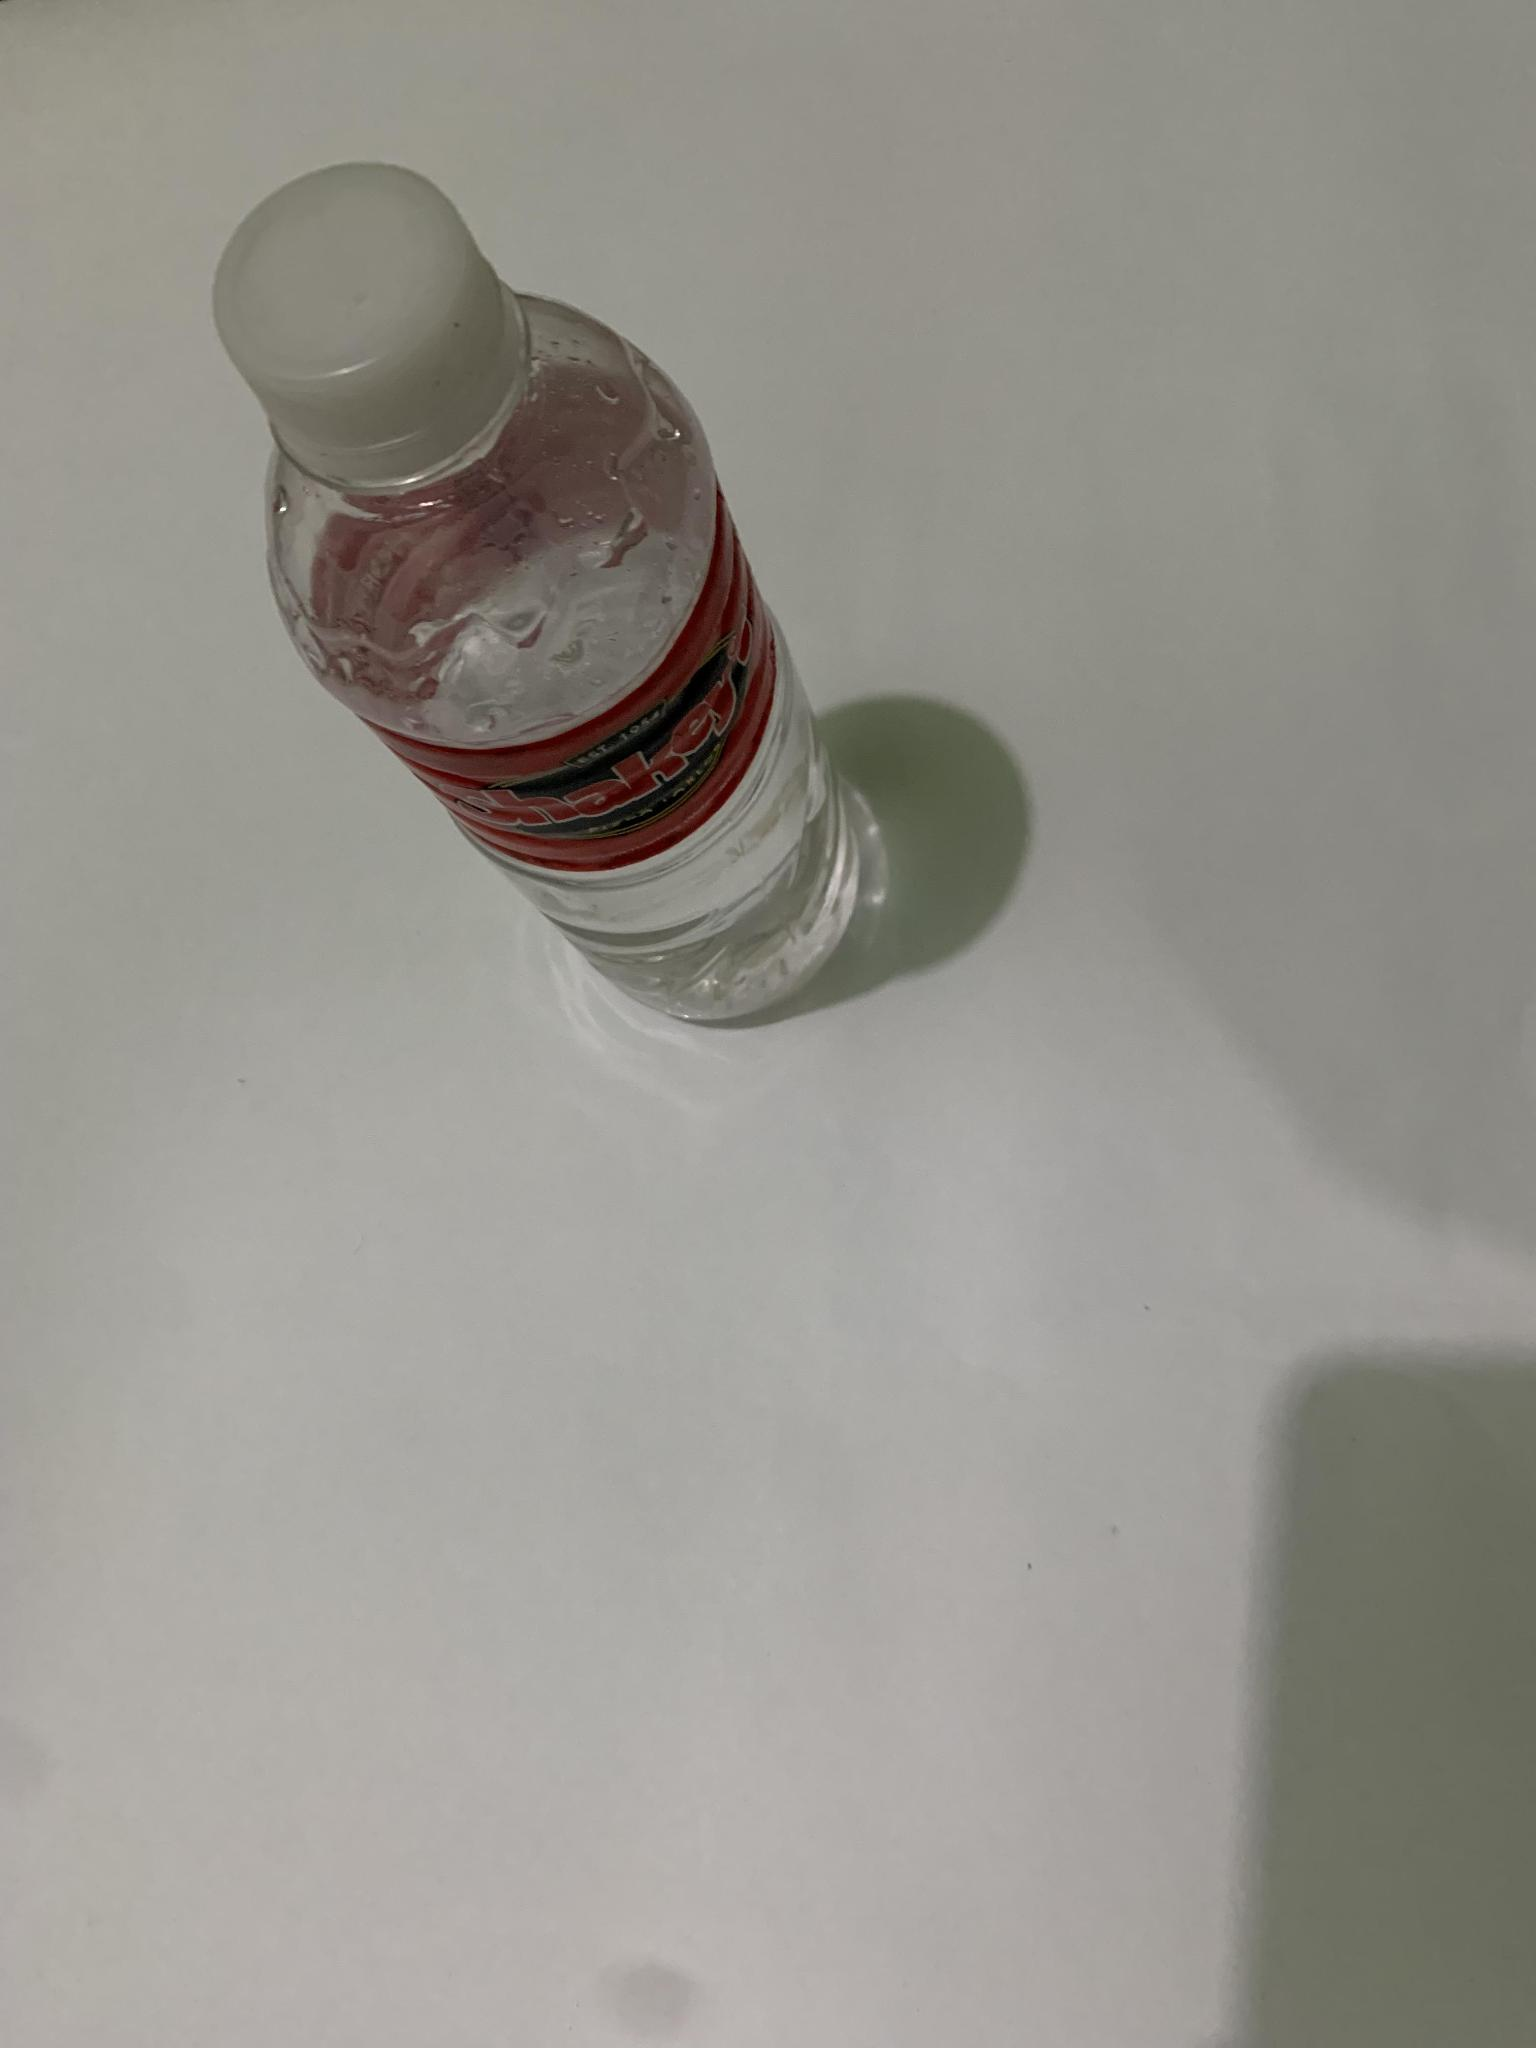bottle: (192, 140, 894, 1034)
